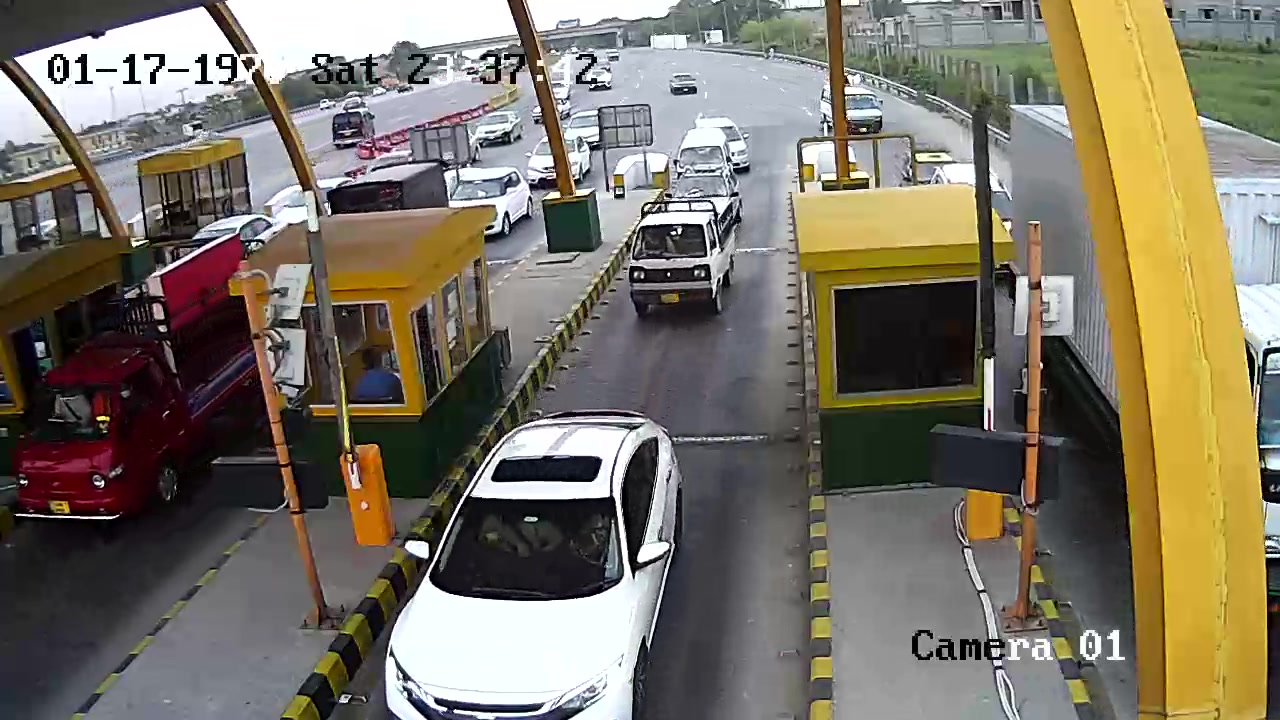F1: (371, 401, 727, 716), (616, 192, 749, 330)
